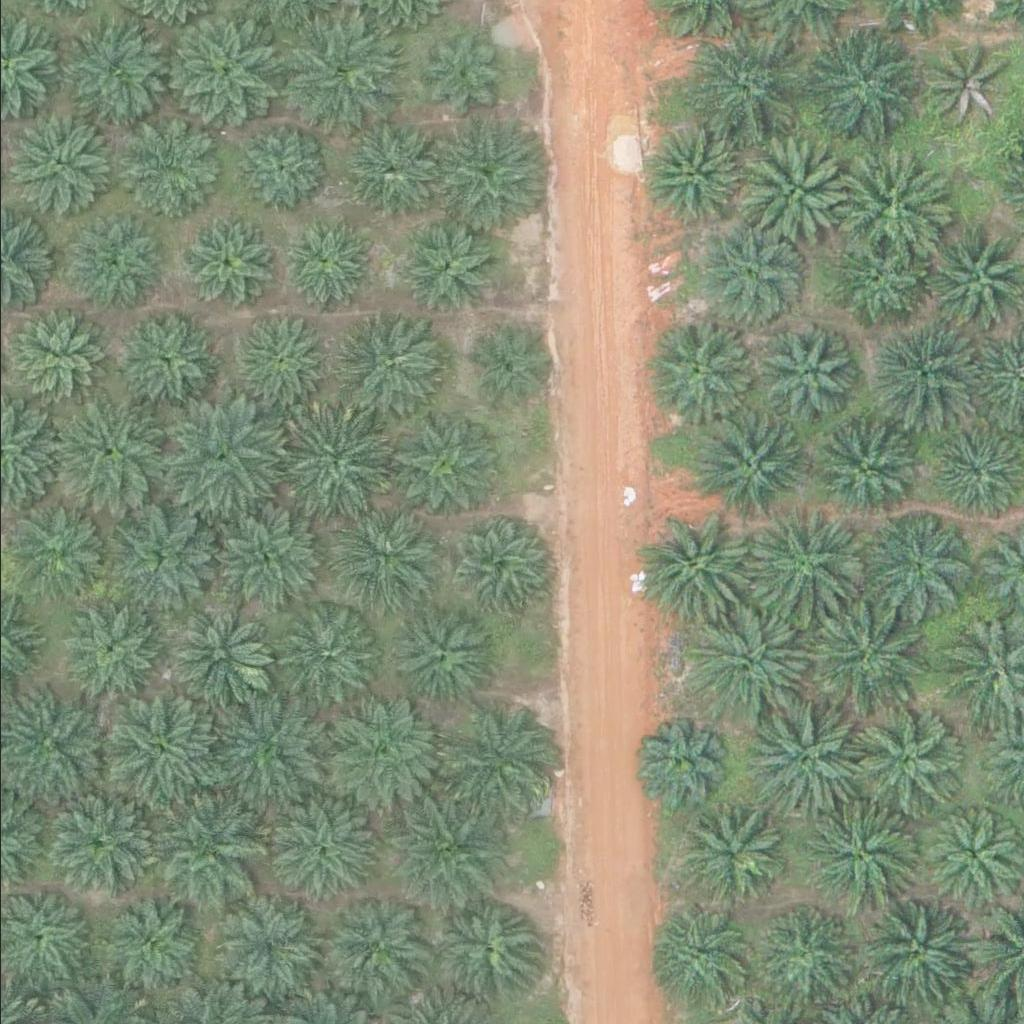Kelapa_Sawit: (163, 17, 277, 130), (40, 782, 154, 895), (861, 895, 975, 1008), (684, 605, 798, 718), (744, 502, 858, 615), (643, 318, 757, 431), (691, 405, 805, 518), (279, 17, 392, 130), (320, 892, 433, 1005), (384, 785, 497, 898), (263, 786, 376, 899), (435, 699, 548, 812), (318, 692, 431, 805), (103, 696, 216, 809), (1, 689, 114, 802), (158, 399, 271, 512), (51, 394, 164, 507), (331, 300, 444, 413), (804, 797, 917, 910), (843, 707, 956, 820), (865, 317, 978, 430), (59, 17, 173, 129), (429, 890, 543, 1002), (385, 405, 499, 517), (436, 117, 550, 229), (860, 509, 974, 621), (151, 801, 264, 913), (207, 694, 320, 806), (156, 605, 269, 717), (107, 504, 220, 616), (271, 404, 384, 516), (53, 200, 166, 312), (106, 107, 219, 219), (667, 799, 780, 911), (746, 709, 859, 821), (811, 598, 924, 710), (634, 514, 747, 626), (838, 145, 951, 257), (740, 132, 853, 244), (685, 34, 798, 146), (806, 30, 919, 142), (209, 898, 310, 998), (395, 608, 496, 708), (266, 607, 367, 707), (57, 600, 158, 700), (5, 499, 106, 599), (218, 509, 319, 609), (8, 305, 109, 405), (113, 314, 214, 414), (176, 215, 277, 315), (337, 119, 438, 219), (750, 907, 851, 1007), (641, 904, 742, 1004), (918, 804, 1019, 904), (747, 323, 848, 423), (703, 224, 804, 324), (95, 892, 195, 992), (332, 502, 432, 602), (449, 513, 549, 613), (279, 211, 379, 311), (403, 218, 503, 318), (923, 424, 1023, 524), (807, 420, 907, 520), (641, 123, 741, 223), (465, 322, 553, 410), (237, 315, 325, 403), (832, 234, 920, 322), (417, 34, 505, 121), (232, 129, 320, 216), (630, 717, 718, 804), (919, 44, 1007, 131)
